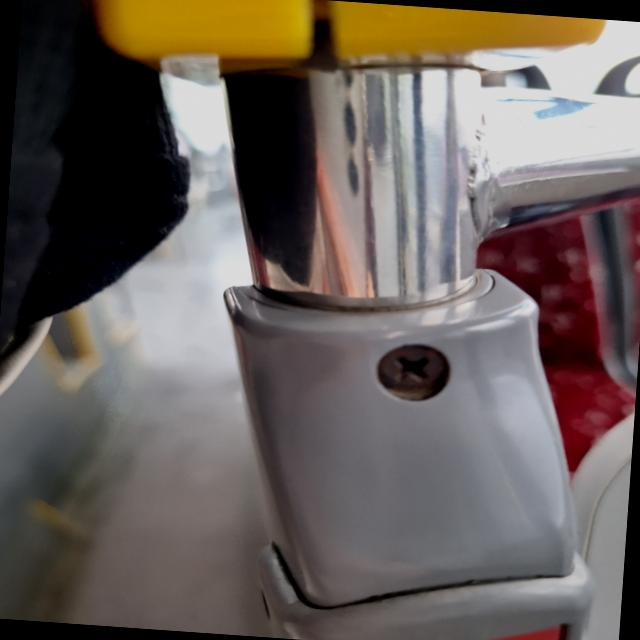Phillips: (368, 338, 461, 404)
